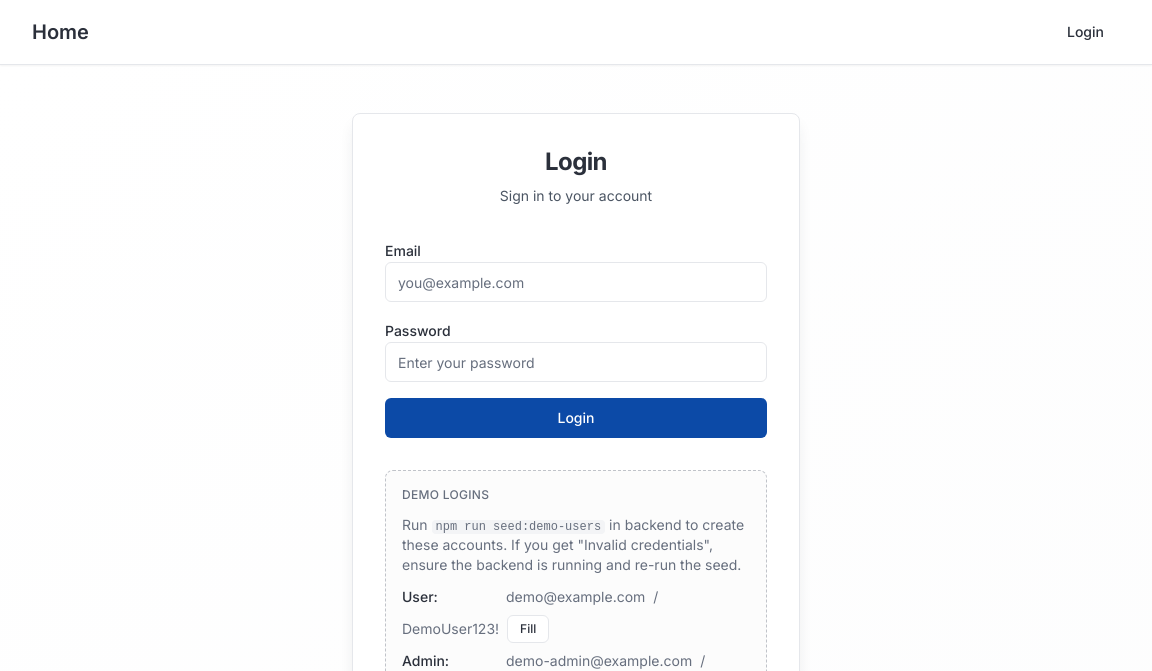
Scenario: Login Toast Notification › should not show toast on login error
Fill form and submit
Type "test@example.com" into the field labelled "Email" at (576, 282), box [385,262,767,302]
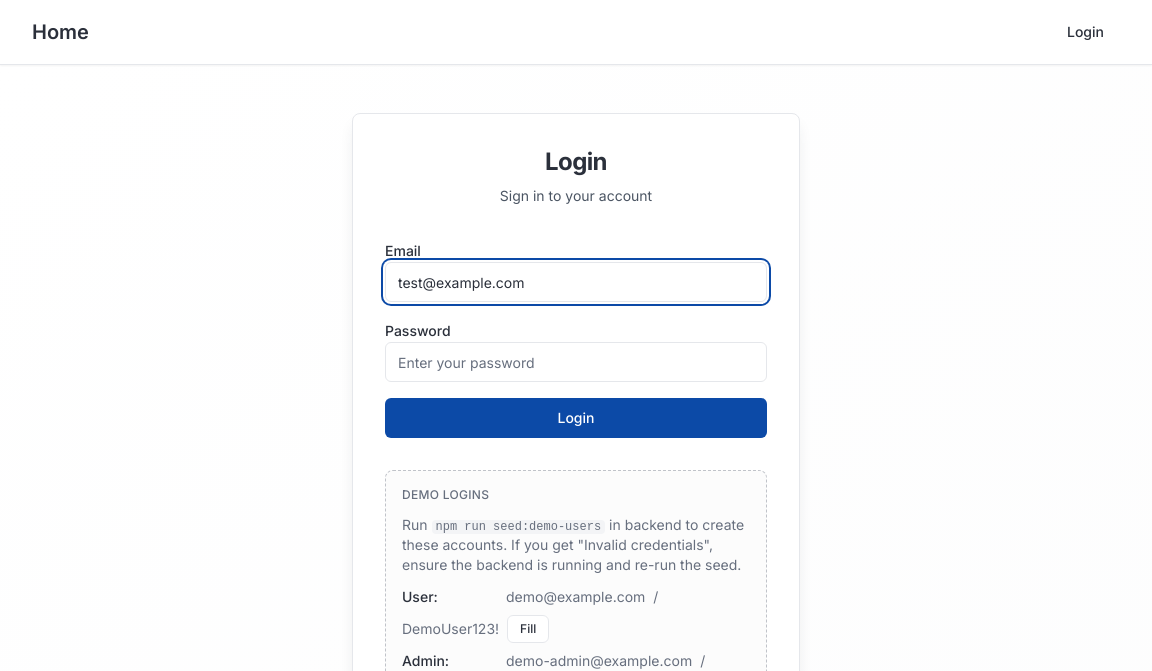
Type "wrongpassword" into the password field labelled "Password" at (576, 362), box [385,342,767,382]
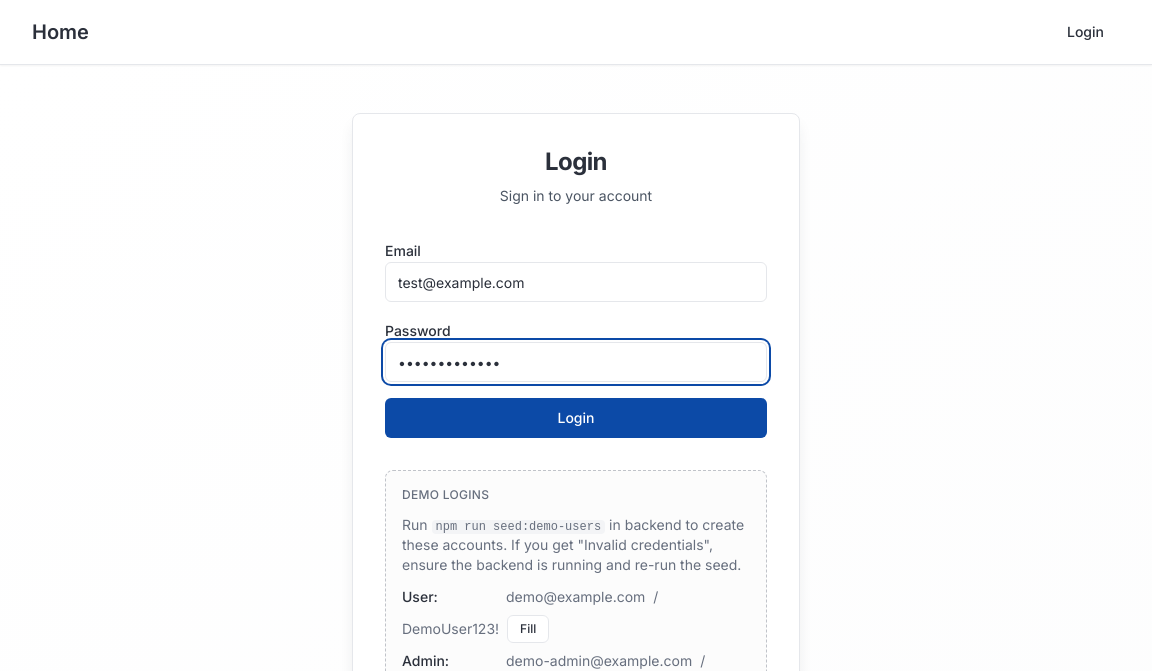
Click the button "Login" at (576, 418), box [385,398,767,438]
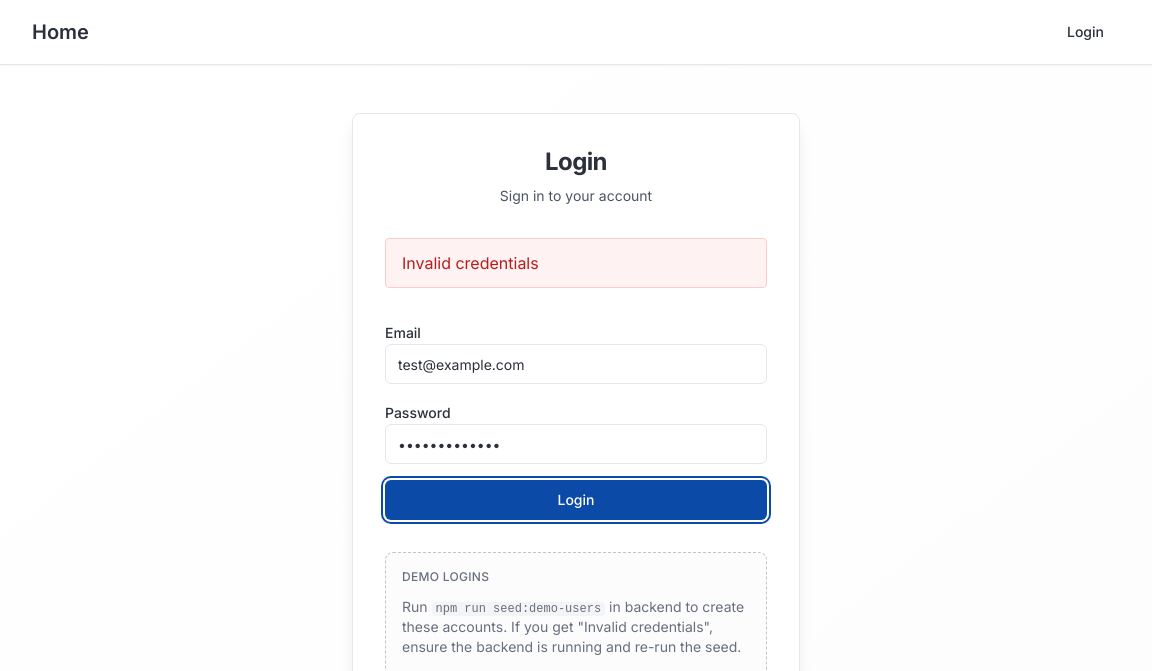
Check: the message "Invalid credentials" is shown, box [385,238,767,288]
